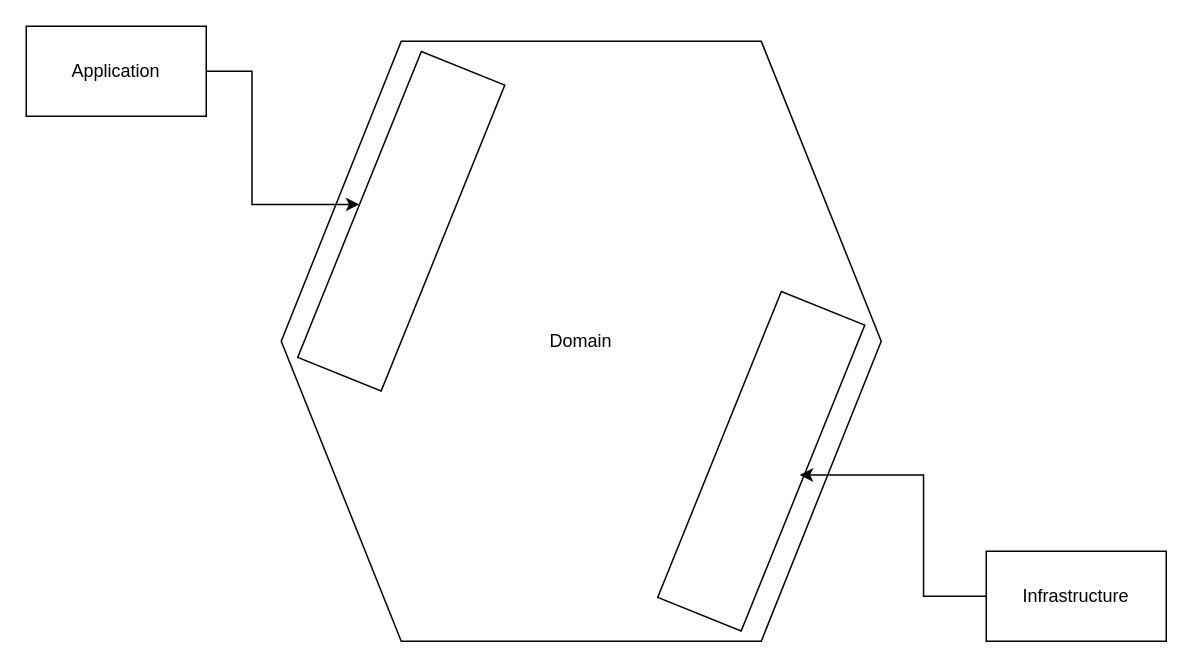
Some shapes in this 1193 by 668 pixel diagram are drawn without their labels. The centre of each missing label's shape, as x and y in pixels:
"Persistence Port" belongs at point 760,460.
"Service Port" belongs at point 400,220.
